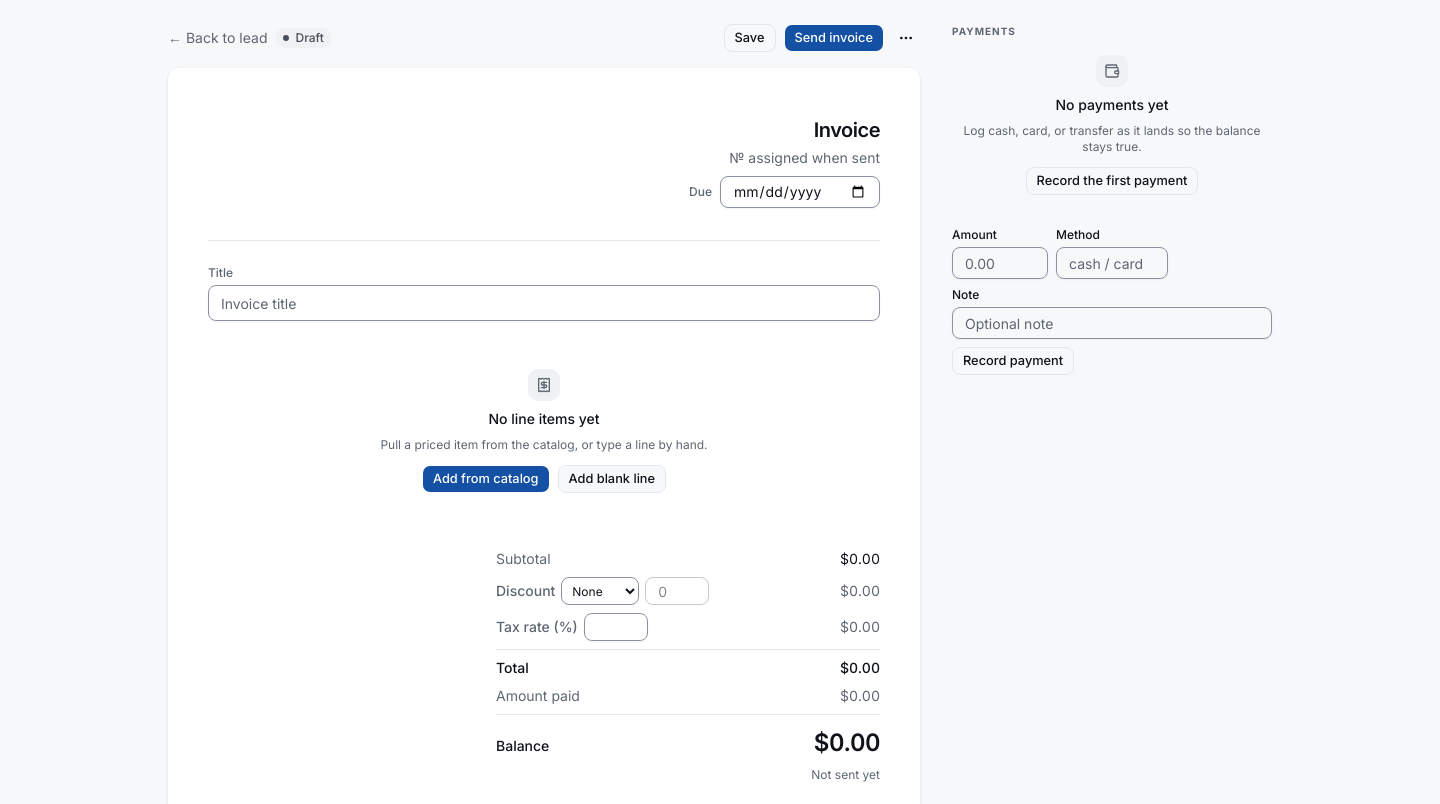
Scenario: InvoiceEditorClient — document › offers Add from catalog and Add blank line while editable
Check: the button "Add from catalog" is shown, box [422, 465, 550, 493]
Click the button "Add blank line" at (612, 479), box [558, 465, 666, 493]
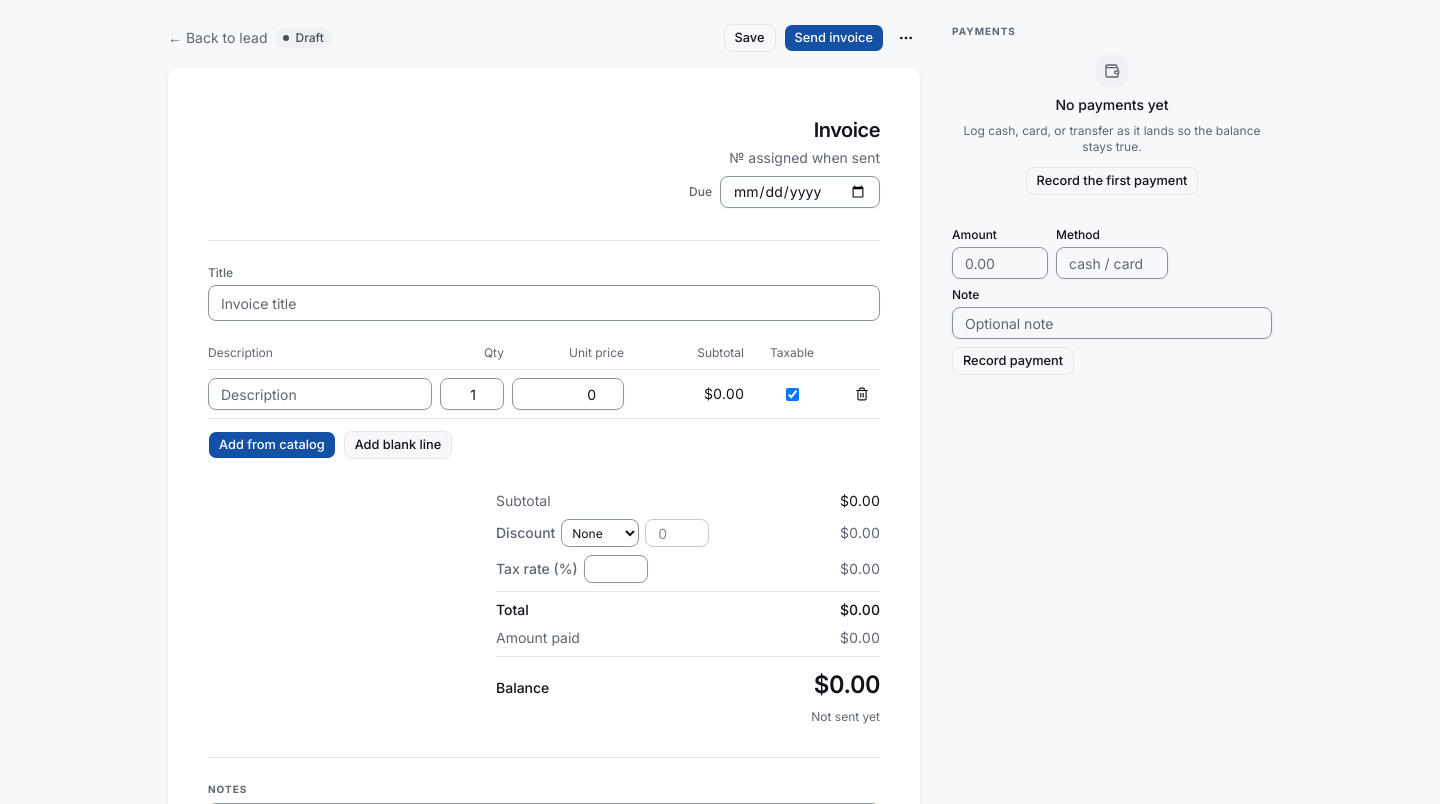
Check: the number of elements with test id "line-item-row" is 1, box [208, 370, 880, 419]
